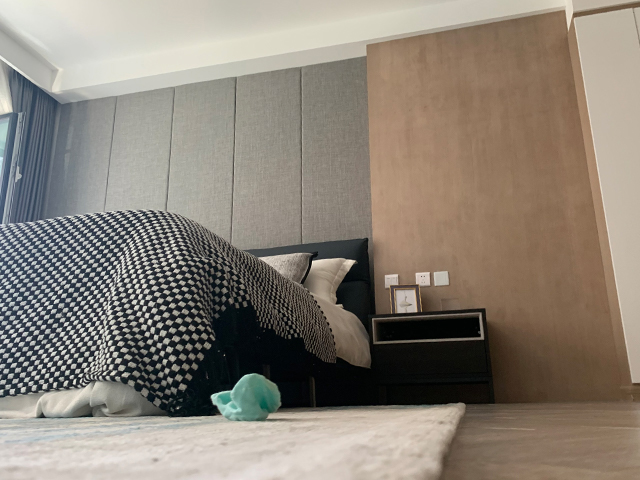bed: (1, 207, 377, 420)
cabinet: (365, 306, 497, 407)
carpet: (1, 399, 468, 480)
socks: (208, 371, 283, 423)
